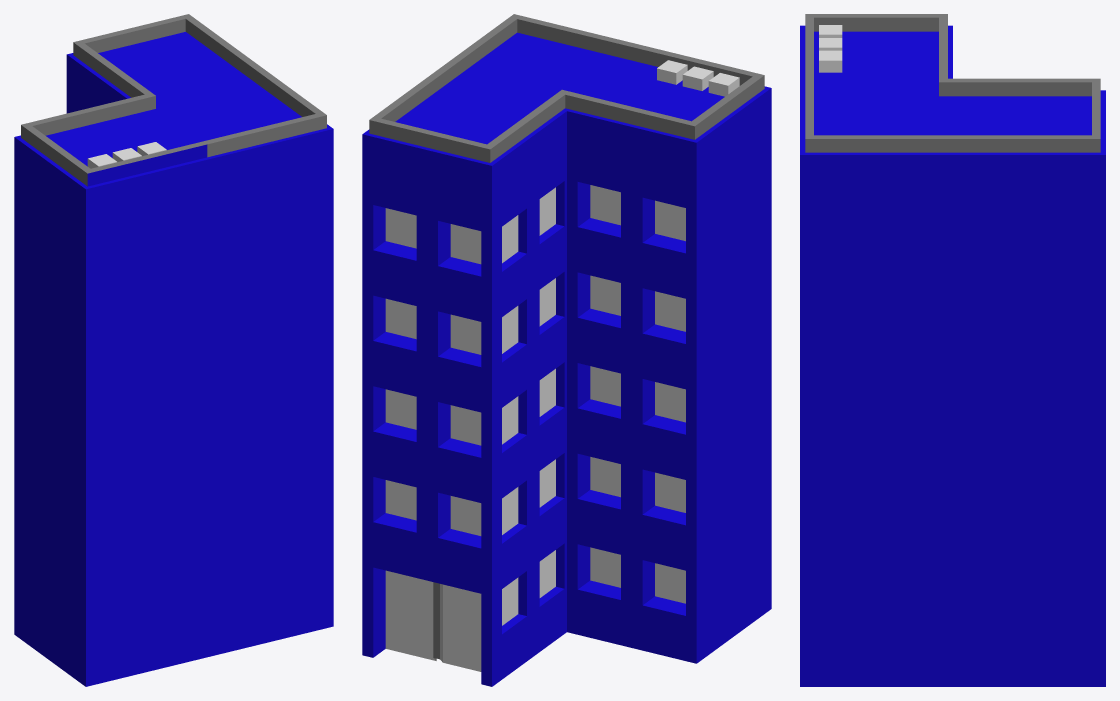
Rendered from Building.fbx.
The picture shows the model from 3 angles, left to right: view 1: azimuth 30°, elevation 25°; view 2: azimuth 150°, elevation 25°; view 3: azimuth 270°, elevation 25°; orthographic projection. The views are drawn at different scales.
Parts seen in each view (by area): view 1: Building, ExhaustPort; view 2: Building, ExhaustPort; view 3: Building, ExhaustPort.
Boxes of the visible parts, x1,y1,x2,y2 form: Building: (14, 14, 333, 686); ExhaustPort: (87, 142, 166, 168); Building: (362, 14, 771, 686); ExhaustPort: (657, 60, 739, 96); Building: (800, 14, 1105, 686); ExhaustPort: (819, 25, 842, 72).
Size of the model in its own units: 400 by 788 by 400.
